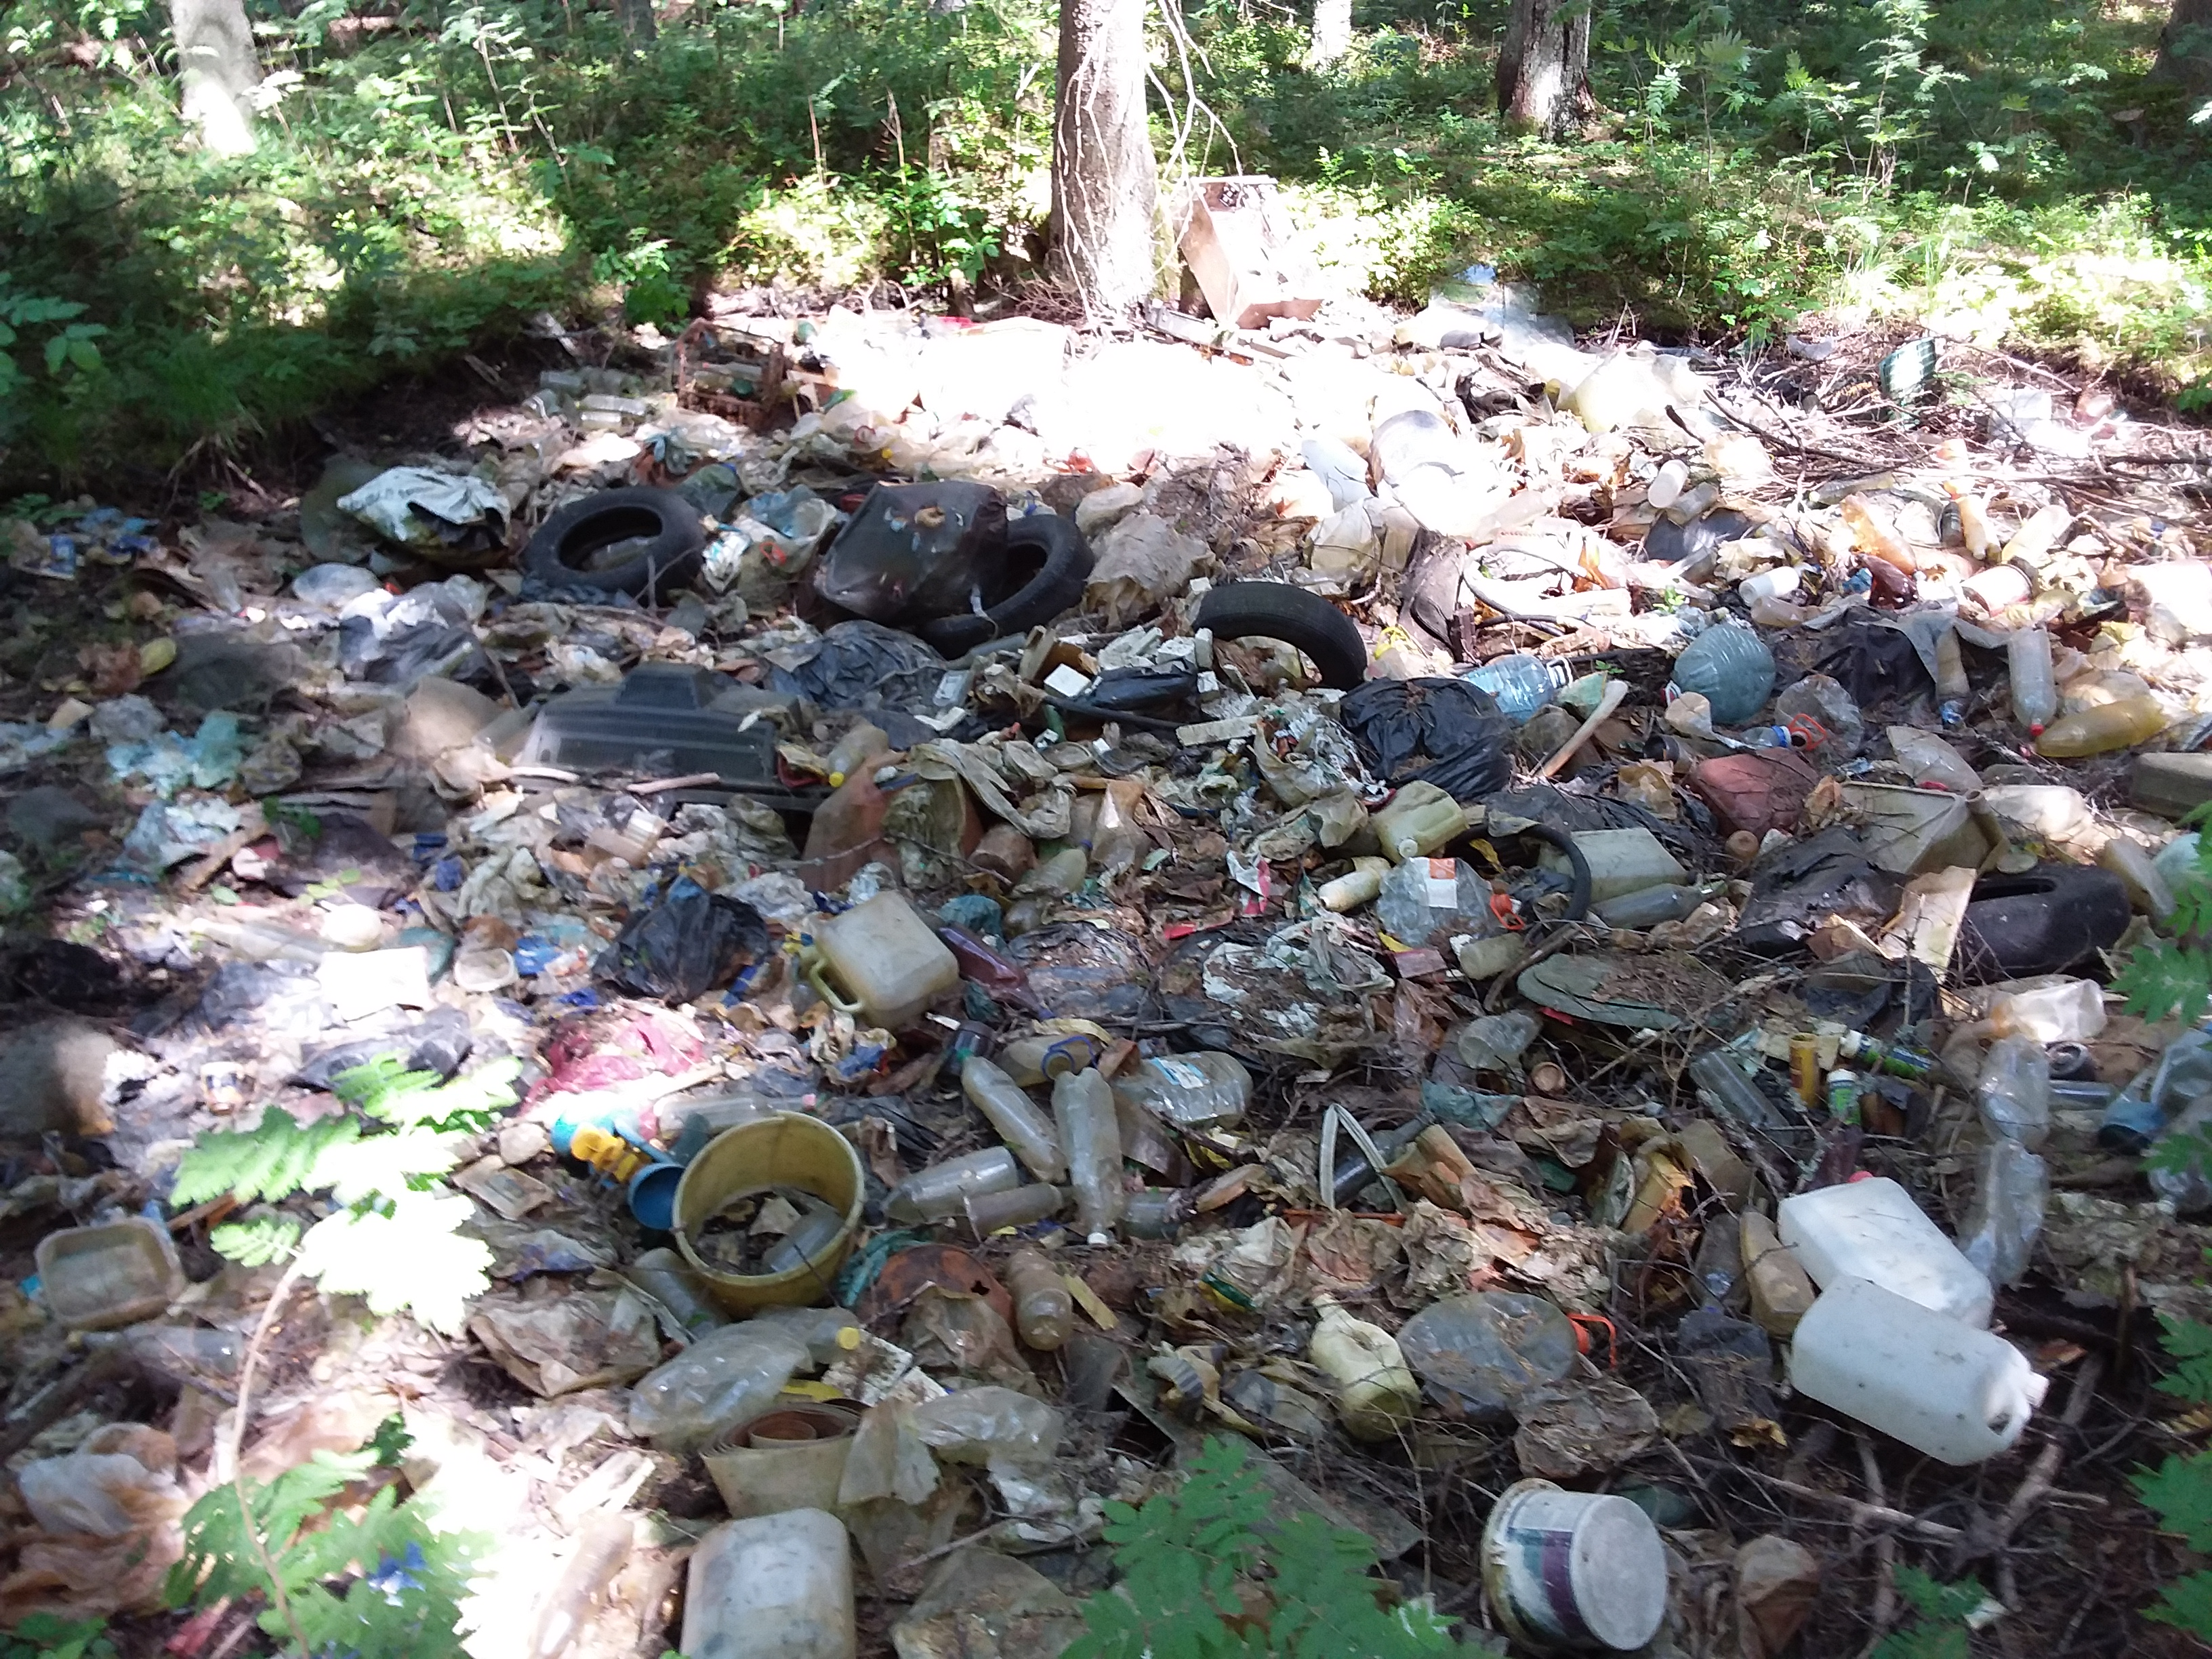trash: (24, 308, 2142, 1638)
